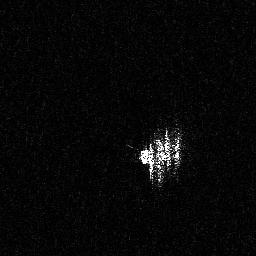ship: (132, 120, 187, 192)
